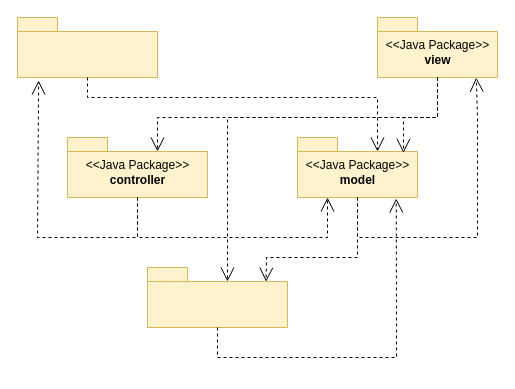
Some shapes in this 515 by 389 pixel diagram are drawn without their labels. The box of each missing label's shape, as (x1, y1, x2, y2) in pixels:
<<Java Package>> controller.commands: (16, 16, 158, 78)
<<Java Package>> model.strategies: (146, 266, 288, 328)
